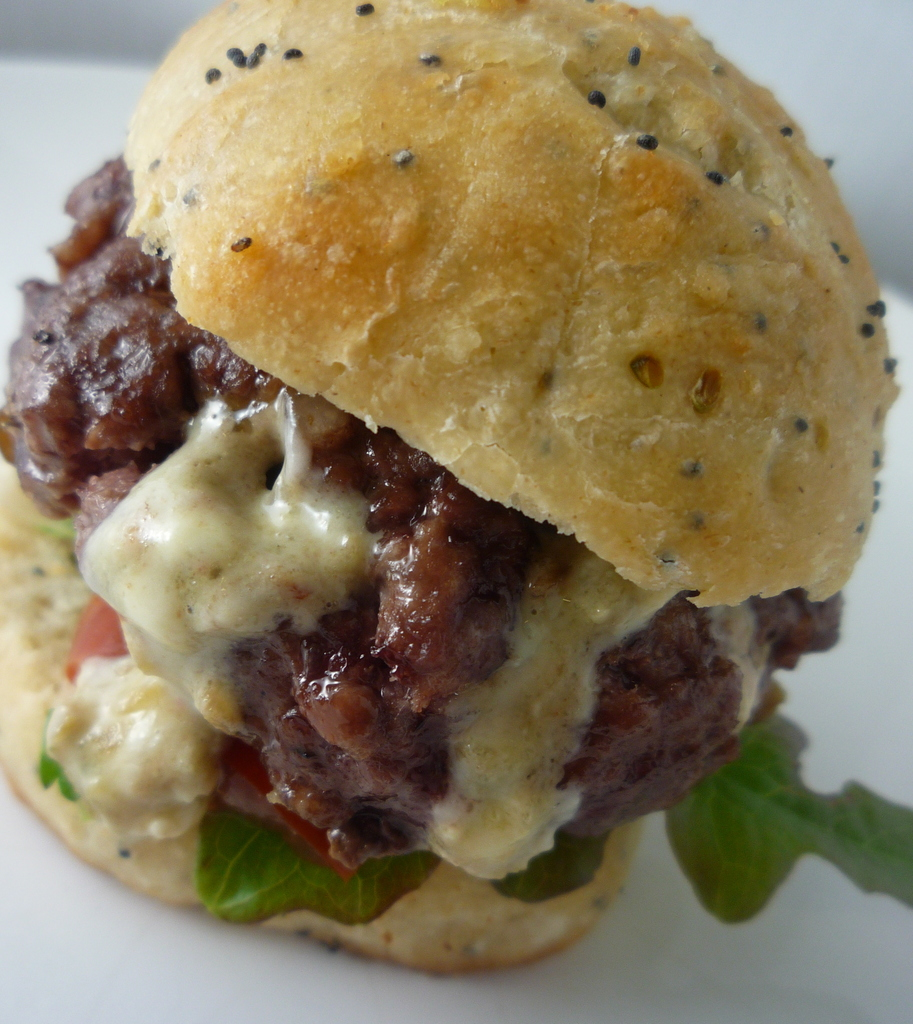Hamburger: (0, 0, 912, 966)
